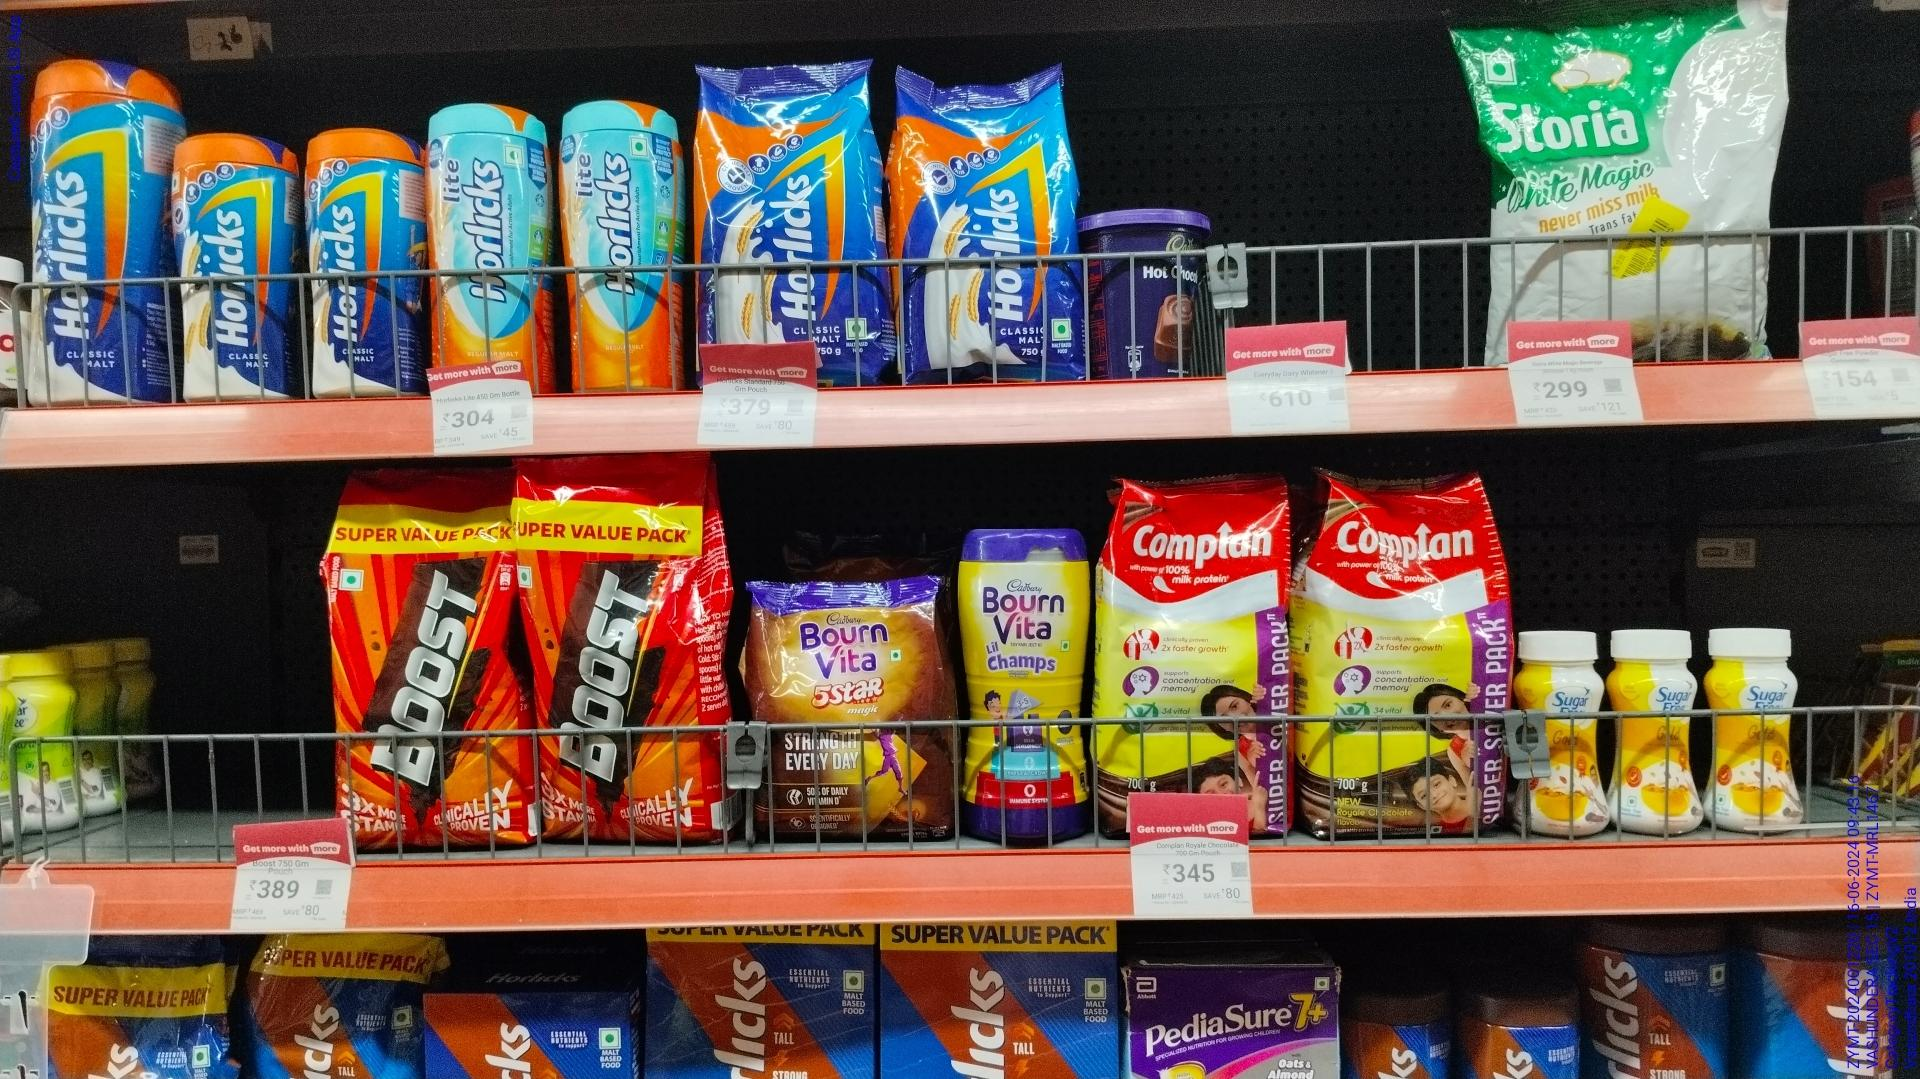BOURN_VITA_CHAMPS_500_G_JAR: (963, 526, 1087, 847)
BOURN_VITA_FIVE_STAR_MAGIC_500_G_POUCH: (752, 580, 953, 846)
COMPLAN_RC_POUCH_700_GMS_12: (1299, 470, 1507, 836), (1097, 474, 1290, 789)
HORLICKS_LITE_REGULAR_MALT_500_GM_JAR: (562, 102, 684, 389), (425, 108, 555, 359)
HORLICK_CLASSIC_MALT_500_G_JAR: (171, 136, 295, 404), (306, 131, 421, 397)
